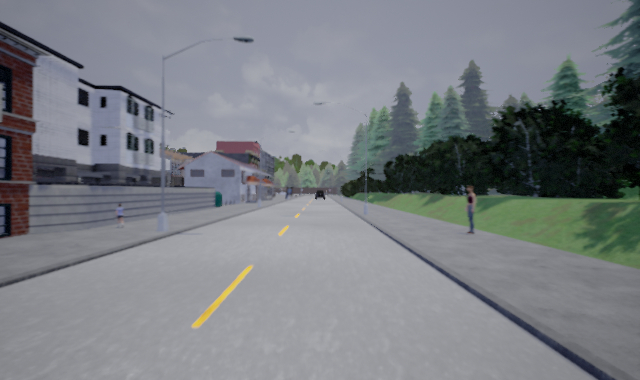pedestrian: (461, 183, 478, 236), (115, 201, 125, 231)
vehicle: (313, 189, 326, 200)
